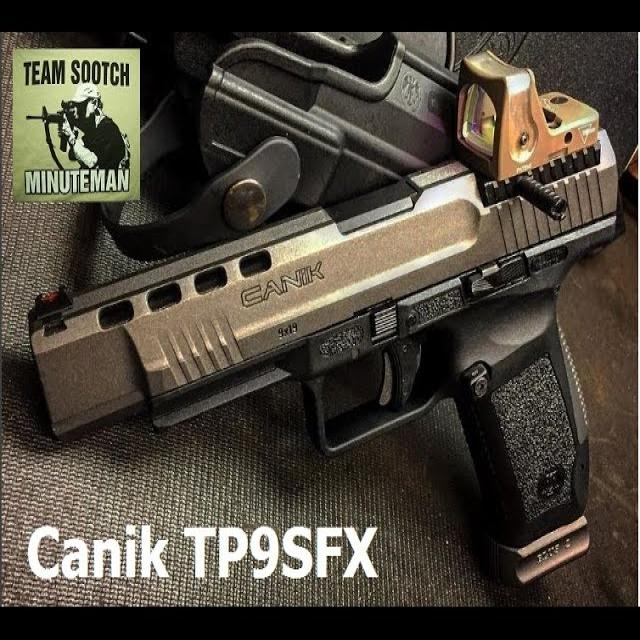HandGun: (28, 53, 621, 587)
